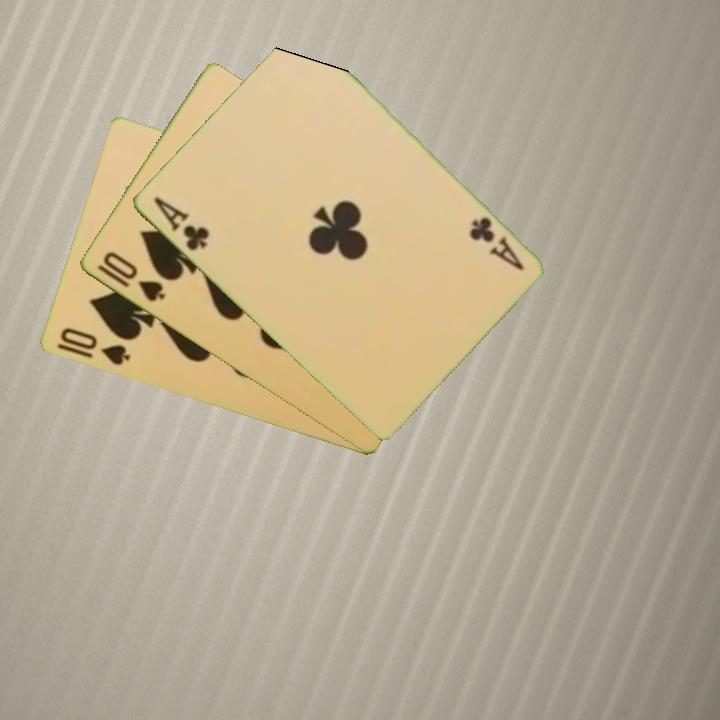10s: (93, 247, 168, 305), (56, 324, 133, 369)
Ac: (149, 193, 212, 254), (465, 213, 527, 274)
